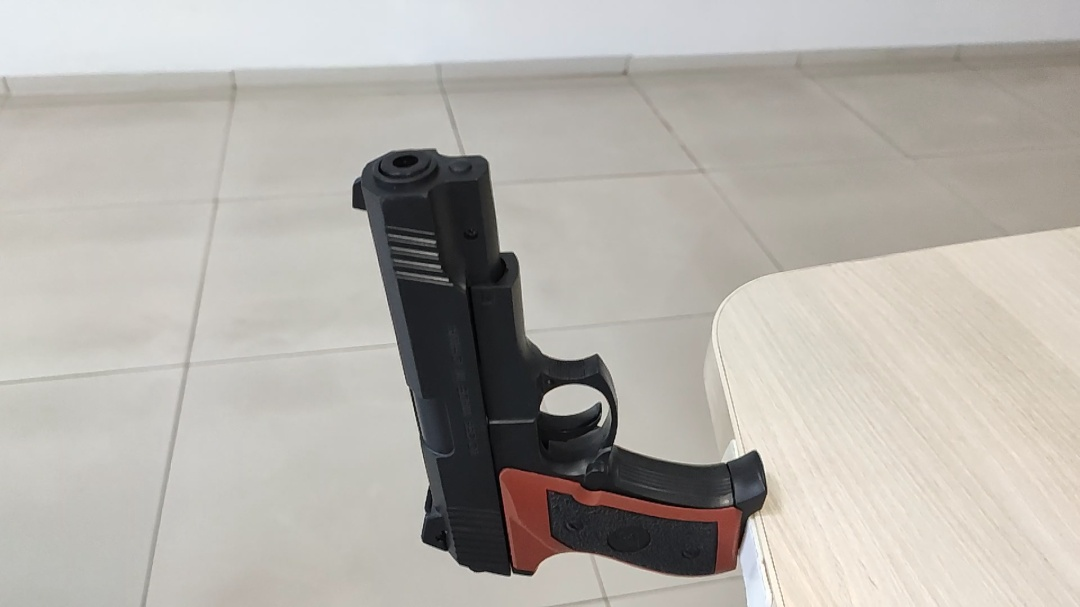gun: (349, 146, 769, 581)
